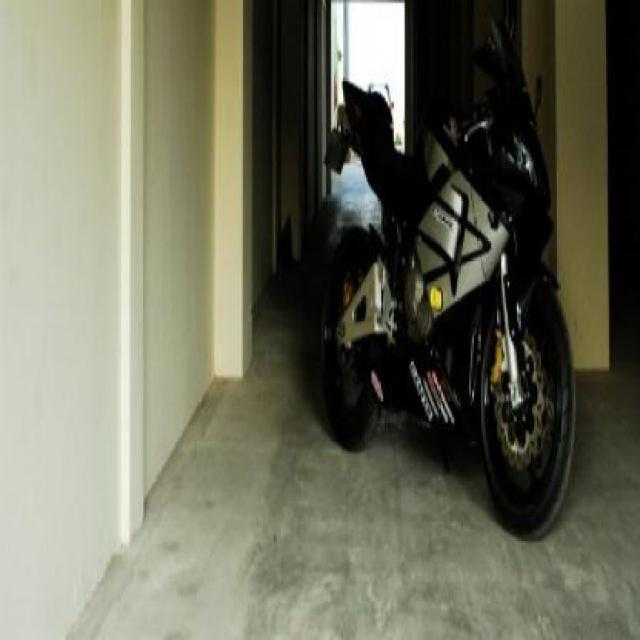bus: (322, 43, 566, 485)
